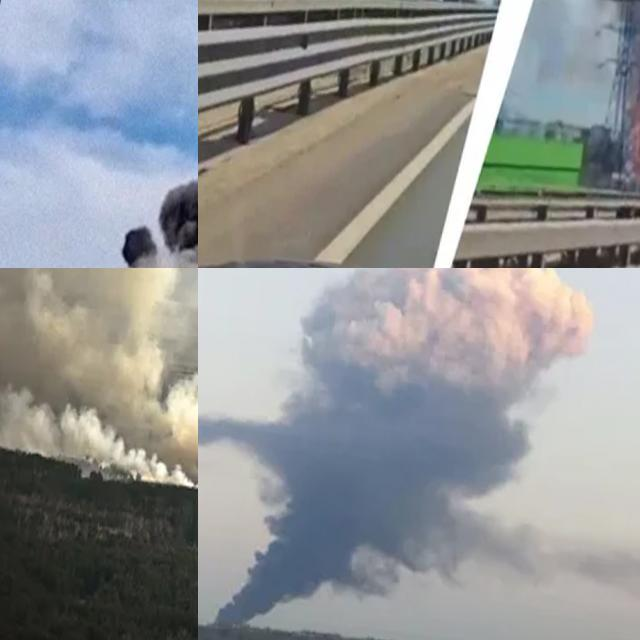smoke: (248, 268, 601, 599), (0, 268, 198, 516), (35, 0, 198, 268)
